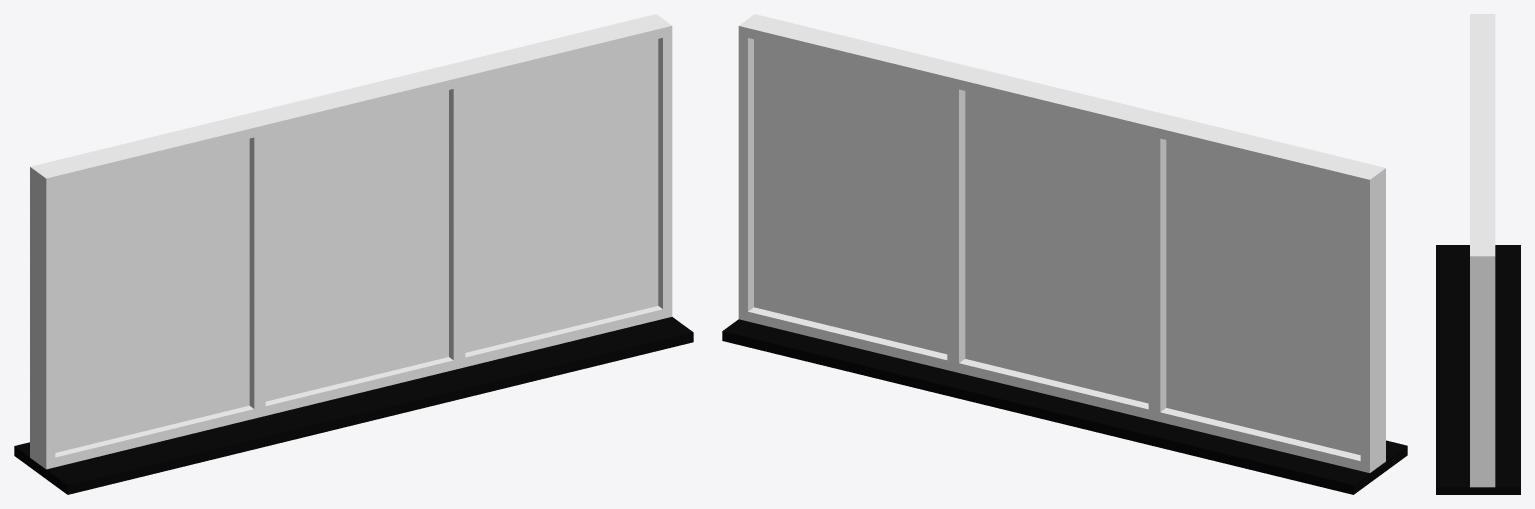
File: wyH.fbx
3 renders of one model, left to right at view 1: azimuth 30°, elevation 25°; view 2: azimuth 150°, elevation 25°; view 3: azimuth 270°, elevation 25°, orthographic. The views are drawn at different scales.
Visible parts, largest first — view 1: glass, i, i2; view 2: glass, i, i2; view 3: i2, i.
Part boxes in pixels (bbox=[...]): glass: bbox=[55, 39, 658, 452]; i: bbox=[30, 14, 672, 469]; i2: bbox=[14, 317, 693, 494]; glass: bbox=[754, 39, 1360, 454]; i: bbox=[738, 14, 1385, 472]; i2: bbox=[722, 319, 1407, 494]; i2: bbox=[1436, 245, 1520, 494]; i: bbox=[1470, 14, 1495, 487].
Size of the model in its own units: 27.01 by 12.39 by 4.
